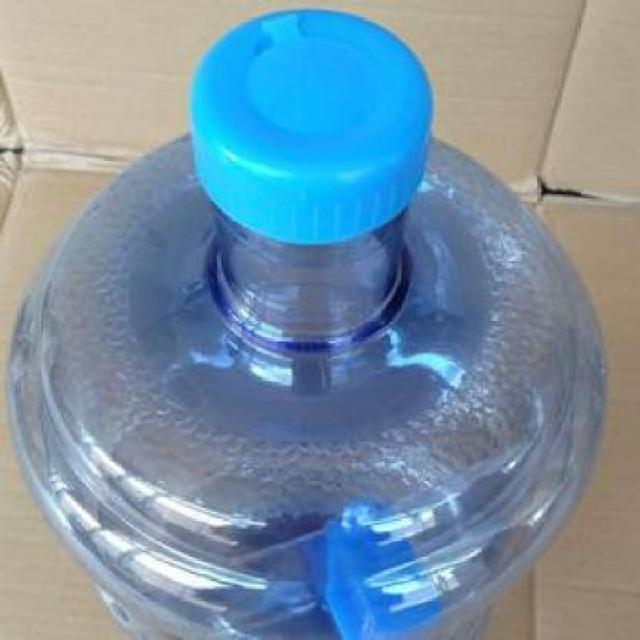coolerbottle: (0, 2, 614, 639)
